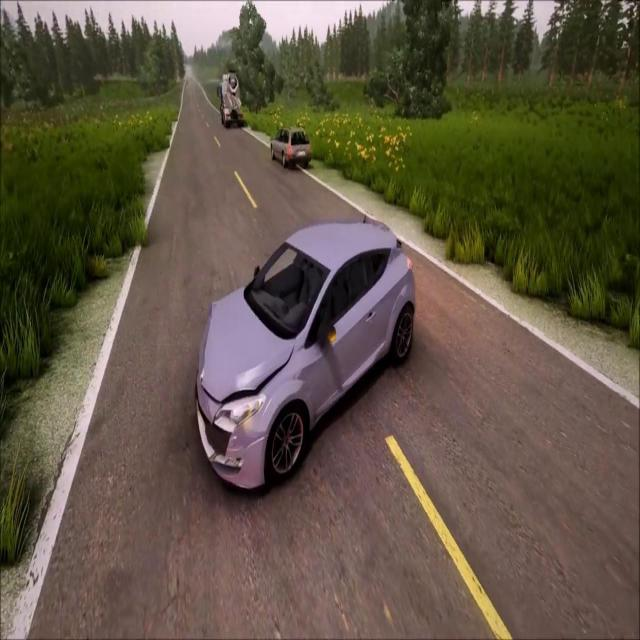accident: (190, 216, 421, 501)
